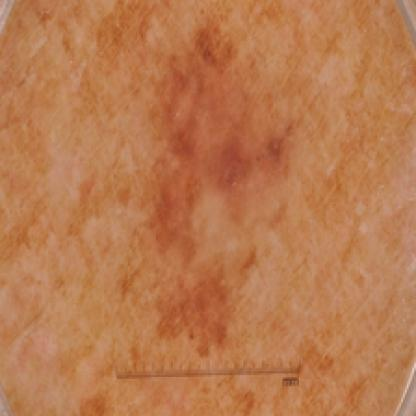malignant: (152, 43, 268, 224)
